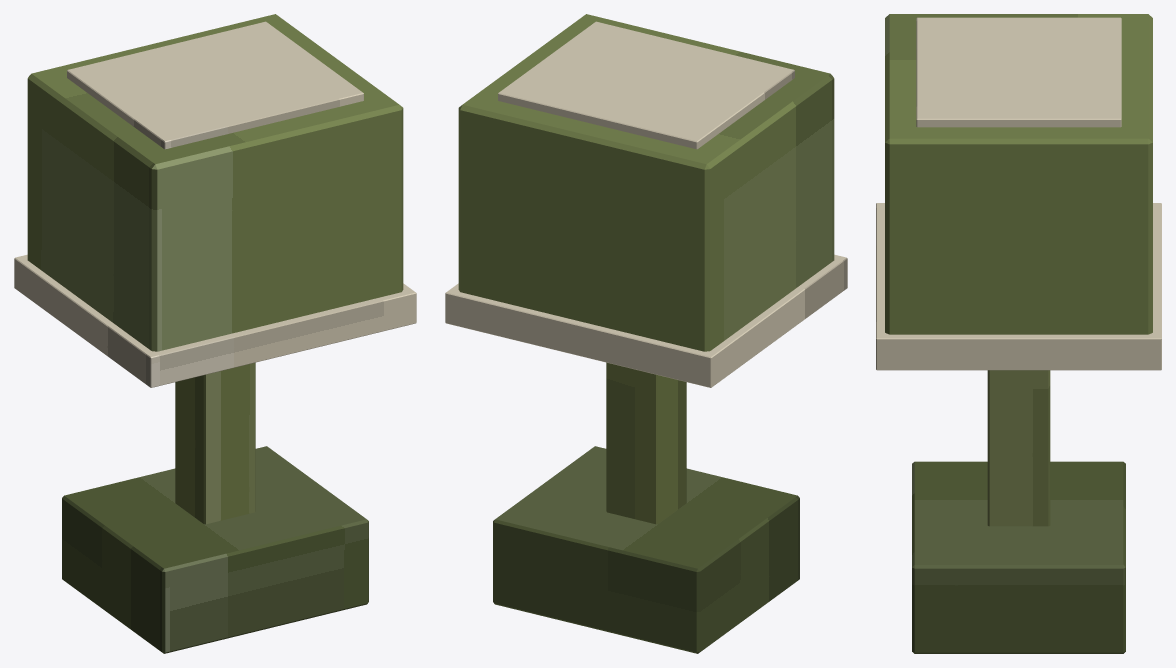
The model's file is bedside_lamp_olive.glb.
3 renders of one model, left to right at view 1: azimuth 30°, elevation 25°; view 2: azimuth 150°, elevation 25°; view 3: azimuth 270°, elevation 25°, orthographic. The views are drawn at different scales.
Parts seen in each view (by area): view 1: LampShade, LampBase, ShadeBandTop, ShadeBandBottom, LampStem; view 2: LampShade, LampBase, ShadeBandTop, ShadeBandBottom, LampStem; view 3: LampShade, LampBase, ShadeBandTop, ShadeBandBottom, LampStem.
Boxes of the visible parts, <box> form: LampShade: <box>27,14,403,351</box>; LampBase: <box>62,446,368,653</box>; ShadeBandTop: <box>67,21,363,149</box>; ShadeBandBottom: <box>14,254,416,387</box>; LampStem: <box>175,362,255,524</box>; LampShade: <box>458,14,834,351</box>; LampBase: <box>493,446,799,653</box>; ShadeBandTop: <box>498,21,794,149</box>; ShadeBandBottom: <box>445,254,847,387</box>; LampStem: <box>606,362,686,524</box>; LampShade: <box>885,14,1152,334</box>; LampBase: <box>912,461,1125,653</box>; ShadeBandTop: <box>916,17,1121,127</box>; ShadeBandBottom: <box>876,203,1161,370</box>; LampStem: <box>987,370,1050,526</box>.
Bounding box in the file's own units: 0.36 × 0.66 × 0.32.
Materials: 1 (1 with a texture image).
